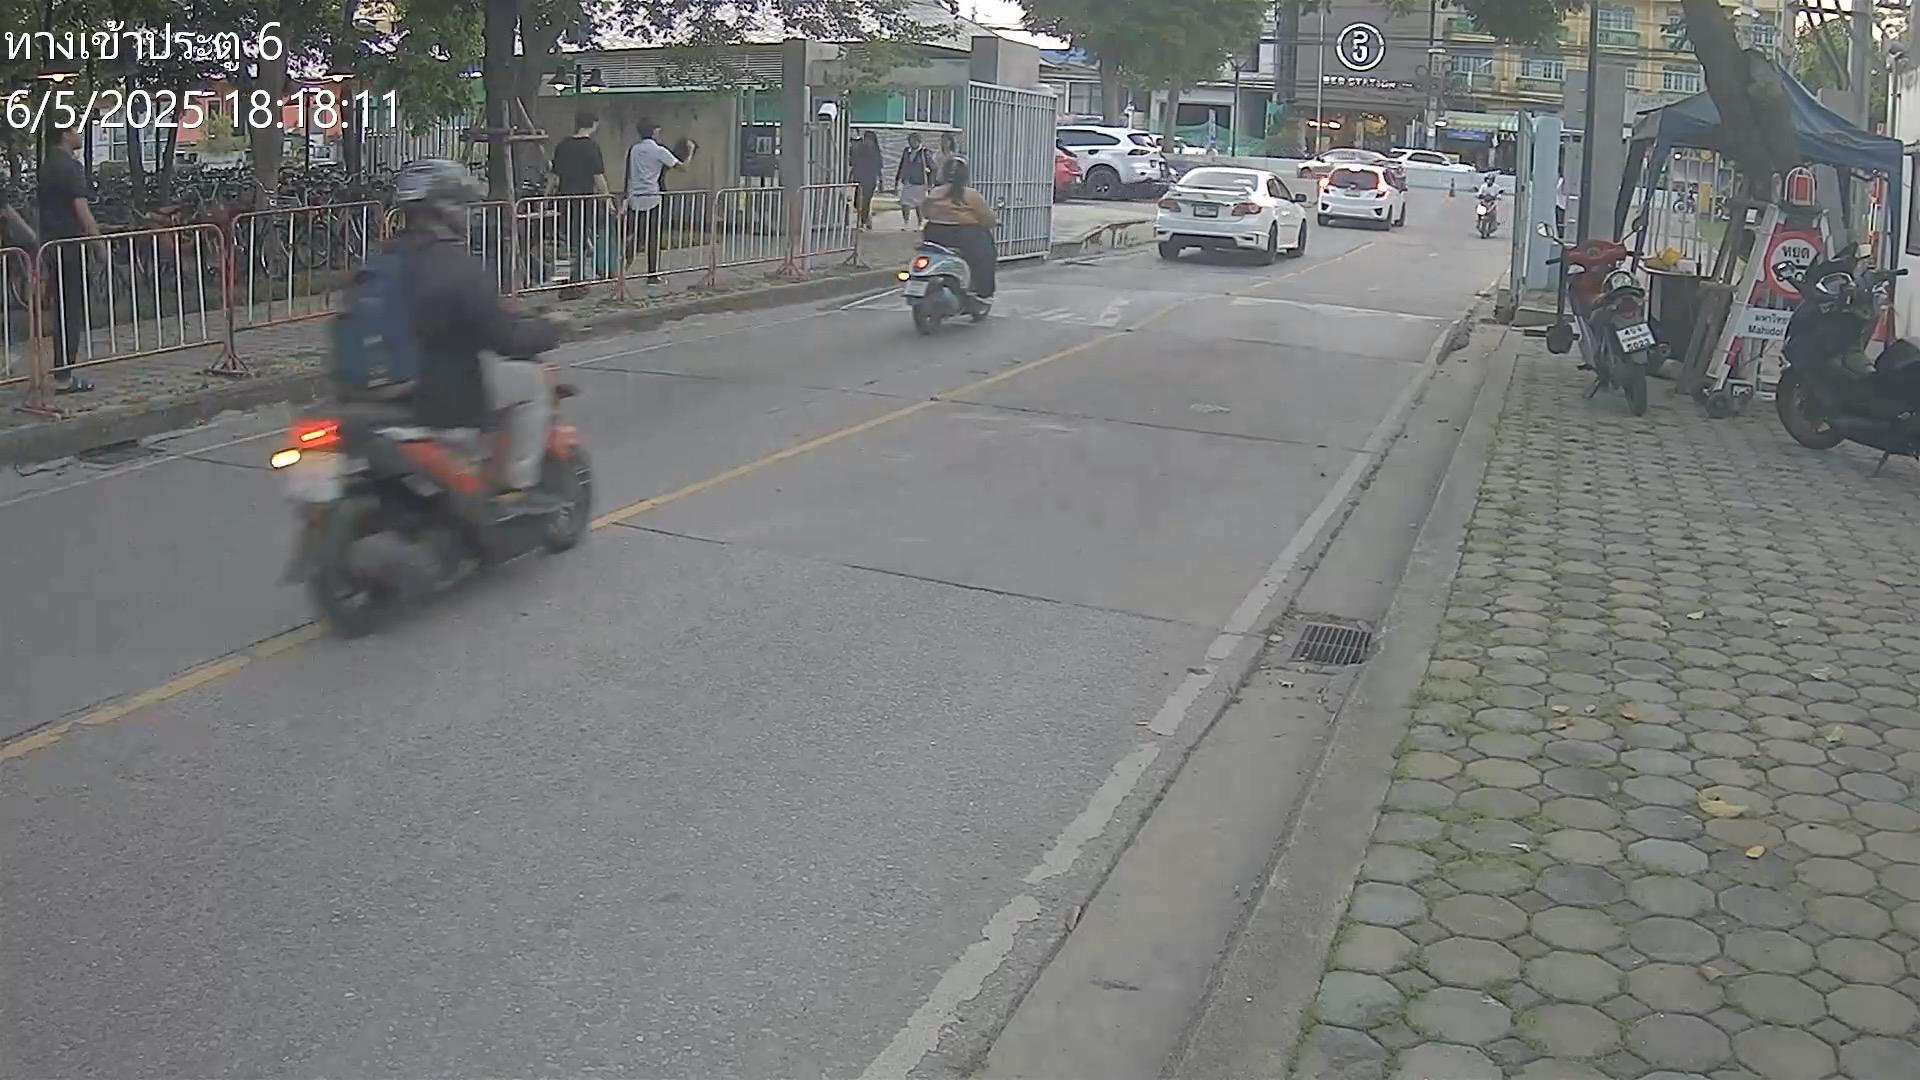With-Helmet: (394, 154, 487, 239), (942, 154, 971, 186)
